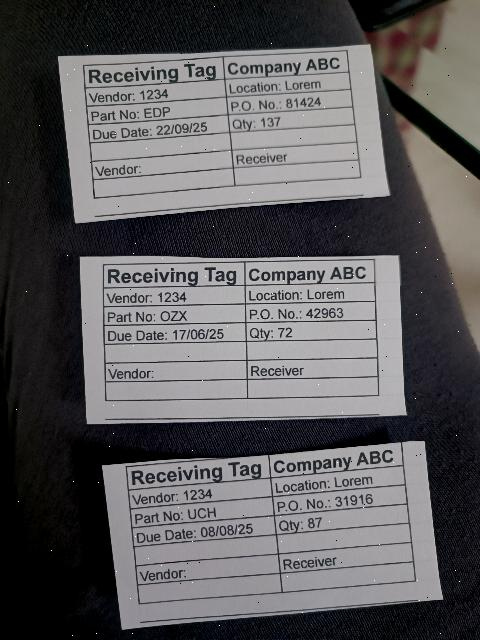PO no: (273, 485, 408, 515), (226, 89, 353, 114), (245, 302, 376, 323)
part no: (131, 498, 275, 527), (87, 97, 230, 125), (104, 303, 247, 326), (247, 320, 376, 342)
qty: (275, 502, 412, 535), (229, 107, 354, 134)
tags: (100, 441, 443, 632), (58, 46, 391, 226), (77, 255, 408, 428)
